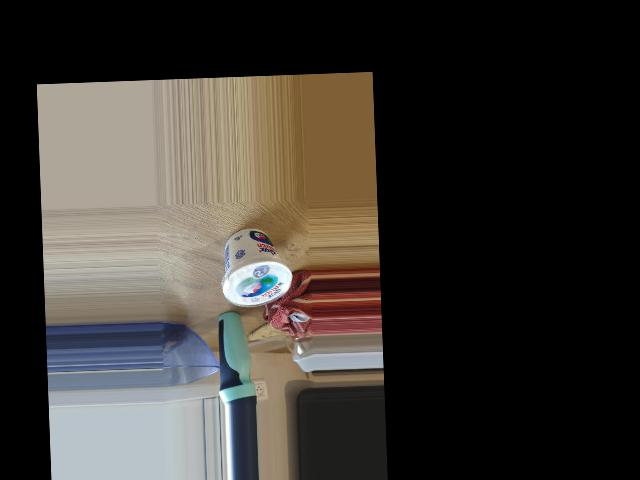cotage: (216, 223, 282, 313)
